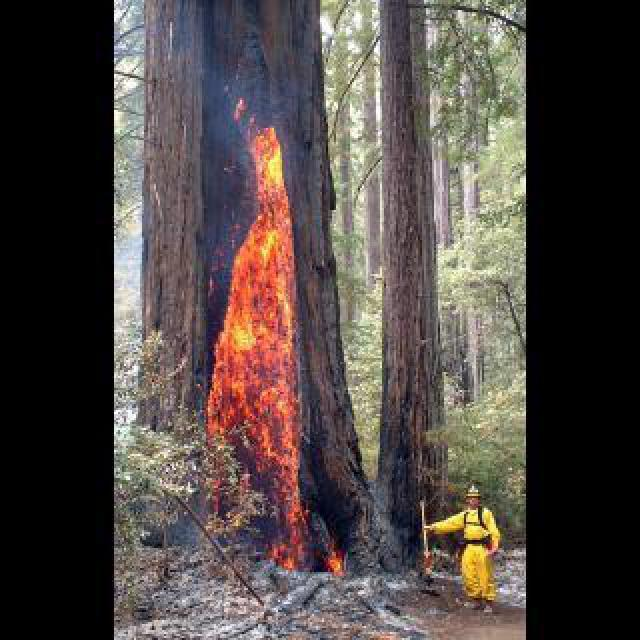fire: (242, 128, 306, 578)
